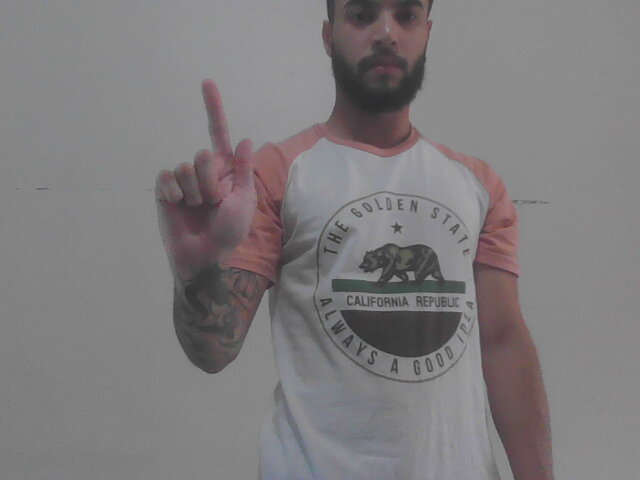g: (150, 77, 259, 268)
